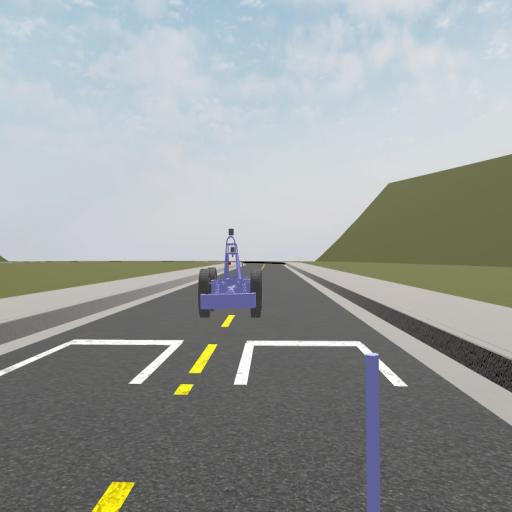ERP-42: (198, 228, 263, 316)
